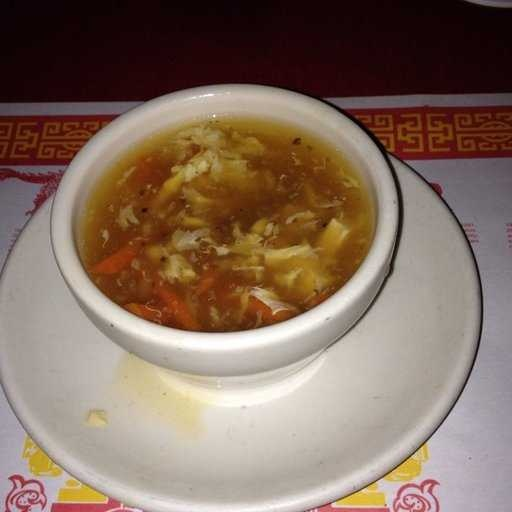soup: (67, 100, 365, 344)
